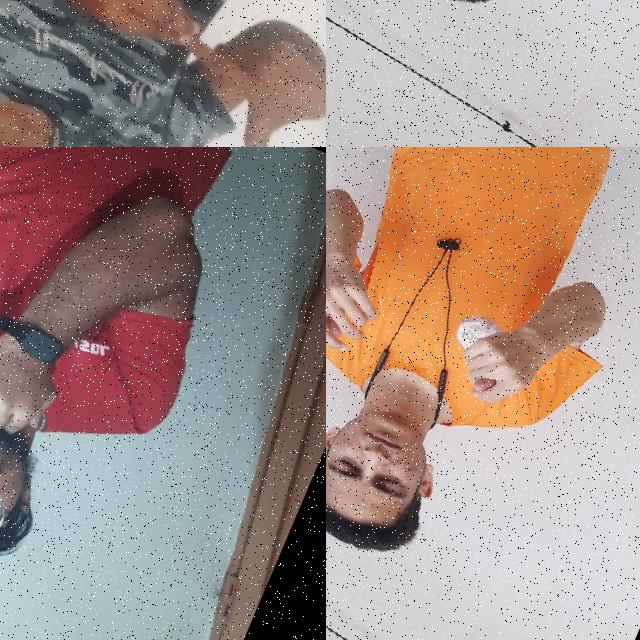Chin Flick: (0, 303, 93, 590)
Dulya: (439, 299, 566, 432), (326, 240, 399, 369)
Five Fathers: (0, 0, 326, 147)
